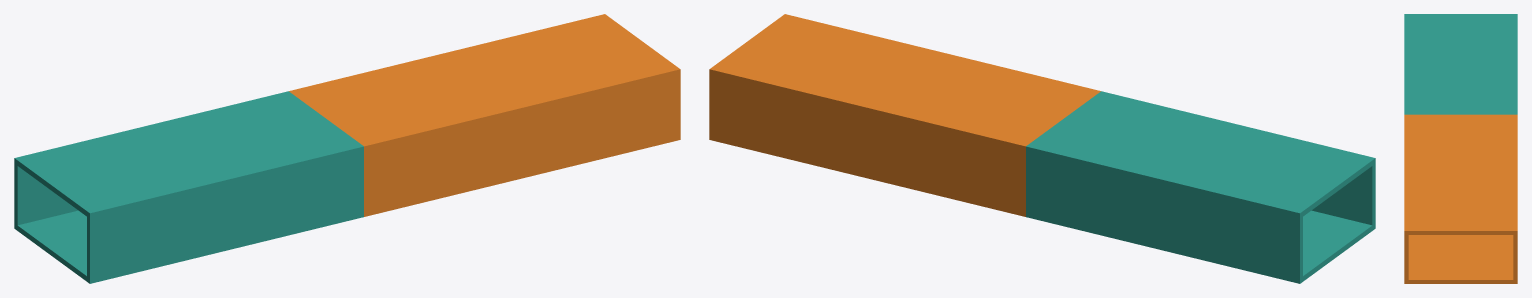
File: cooling_water_distribution_system_temperature.glb
3 views of the same model, side by side, from view 1: azimuth 30°, elevation 25°; view 2: azimuth 150°, elevation 25°; view 3: azimuth 270°, elevation 25° (orthographic). The views are drawn at different scales.
Visible parts, largest first — view 1: temperature__front; view 2: temperature__front; view 3: temperature__front.
Part boxes in pixels (box(x1,y1,x2,y2)): temperature__front: box(14, 14, 680, 283); temperature__front: box(709, 14, 1375, 283); temperature__front: box(1404, 14, 1517, 283).
Bounding box in the file's own units: 2.8 × 0.32 × 0.62.
